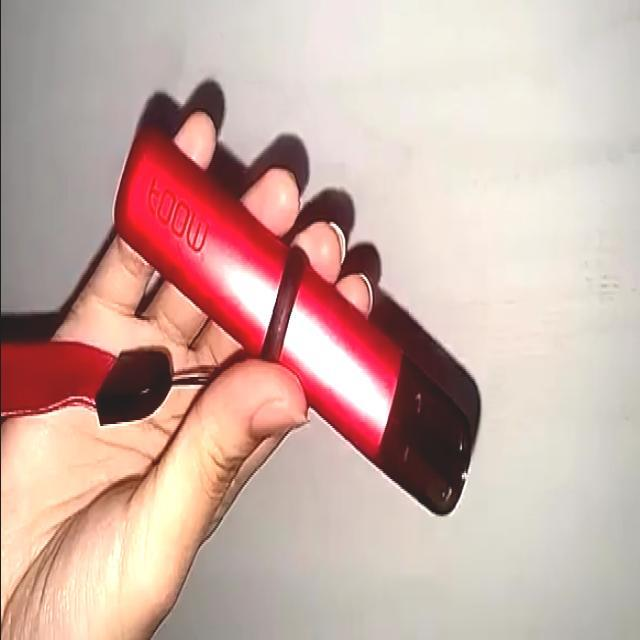Hazard: (115, 102, 478, 511)
